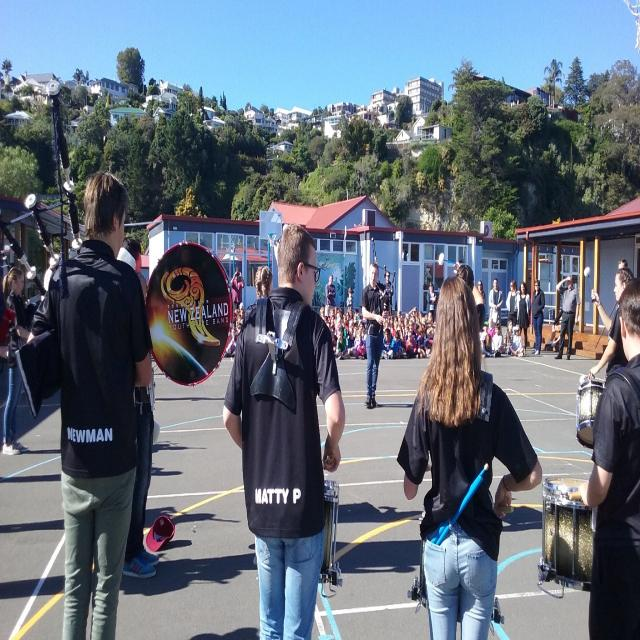body: (13, 168, 155, 639), (394, 270, 546, 639), (221, 216, 349, 639), (0, 441, 260, 637), (585, 275, 640, 640), (323, 494, 545, 576), (1, 265, 31, 457), (587, 266, 633, 382), (360, 261, 392, 409), (380, 307, 436, 360), (318, 303, 368, 359), (553, 274, 581, 362), (244, 264, 274, 320), (0, 290, 17, 370), (222, 300, 245, 359), (530, 277, 546, 356), (515, 279, 531, 357), (505, 278, 521, 328), (488, 277, 504, 324), (123, 238, 143, 272), (229, 269, 245, 311), (324, 274, 338, 318), (508, 322, 525, 358), (382, 269, 394, 318), (503, 319, 517, 356), (490, 322, 504, 356), (426, 282, 436, 323), (375, 400, 416, 410), (482, 332, 496, 358), (480, 320, 490, 352), (476, 278, 486, 307), (617, 255, 631, 273), (486, 315, 496, 339), (346, 286, 354, 312)
